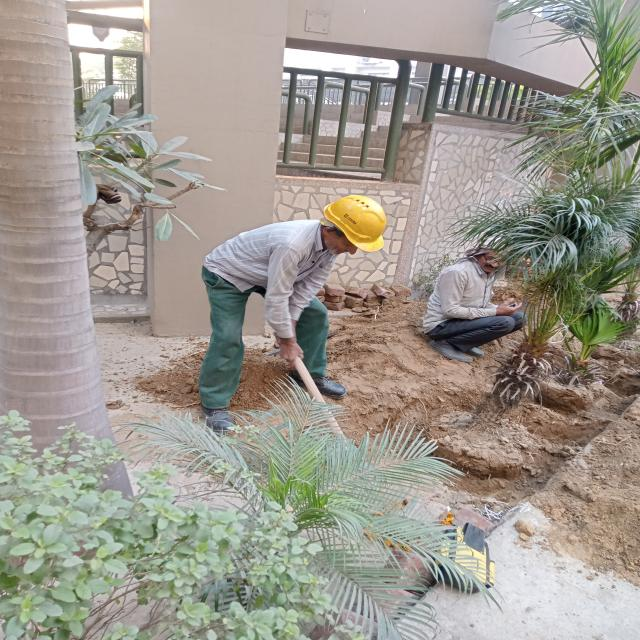no jacket: (196, 192, 388, 420)
unsafe: (419, 240, 521, 364)
